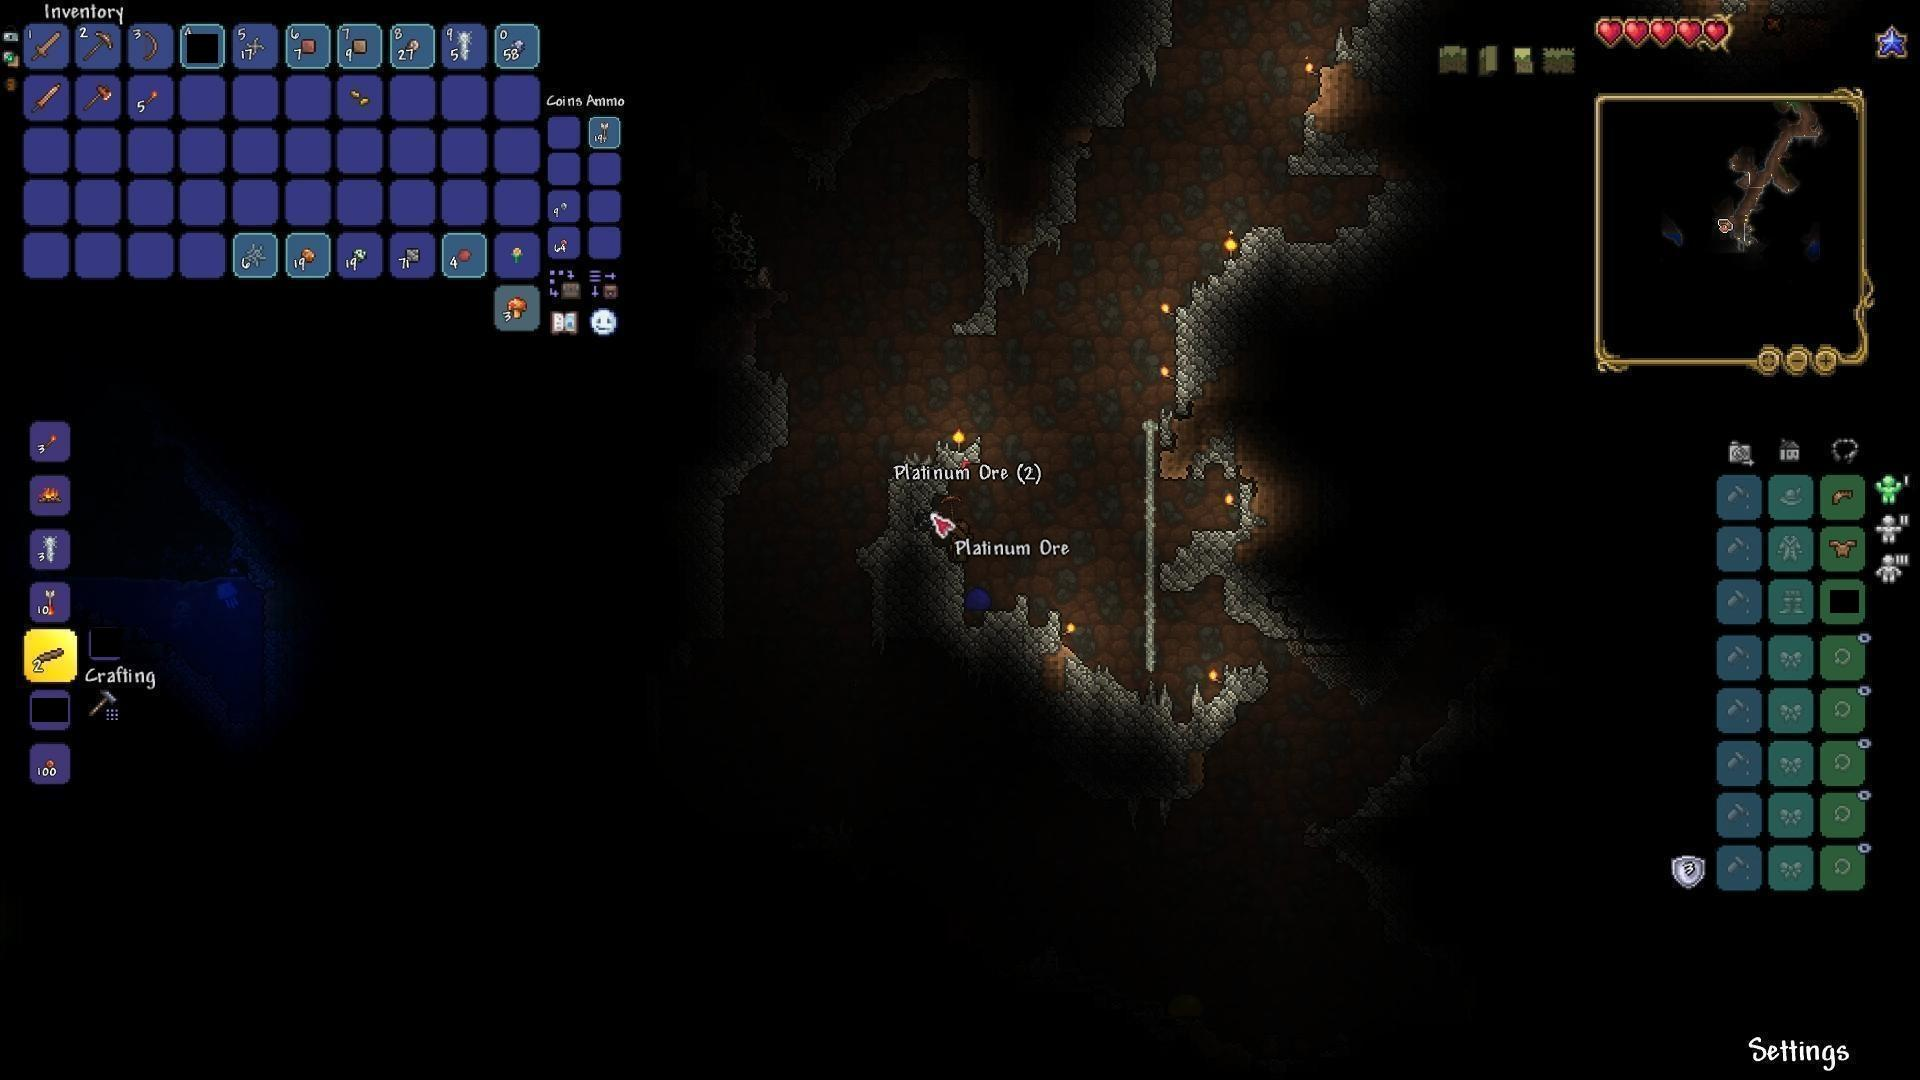breastplate: (1830, 538, 1858, 559)
helmet: (1832, 491, 1855, 506)
slime: (964, 584, 996, 615)
